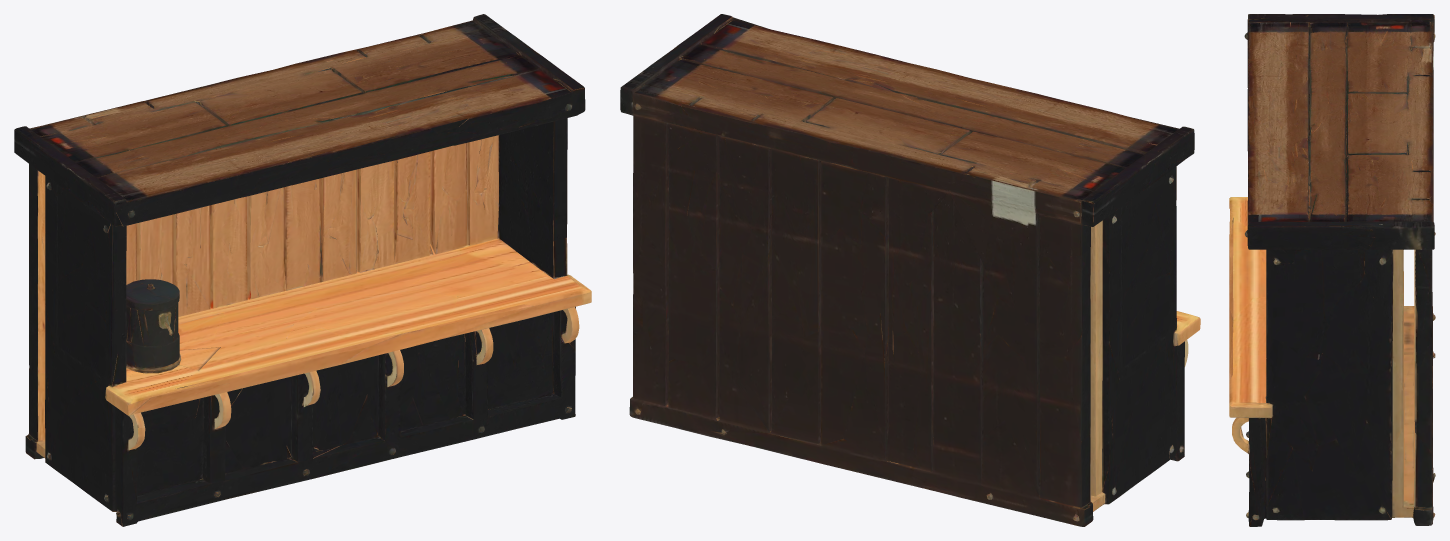
File: fortune_prize_counter.glb
3 renders of one model, left to right at view 1: azimuth 30°, elevation 25°; view 2: azimuth 150°, elevation 25°; view 3: azimuth 270°, elevation 25°, orthographic. The views are drawn at different scales.
Size of the model in its own units: 1.9 by 1.26 by 0.7769.
1 material, 1 textured.
